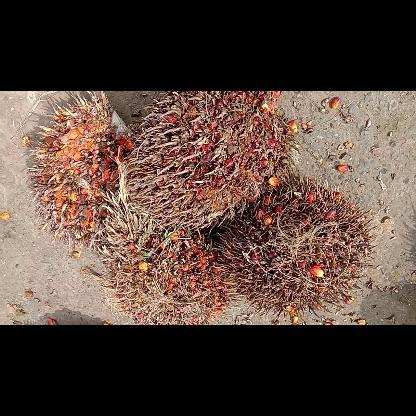Terlalu masak: (126, 90, 296, 228), (216, 178, 376, 314), (26, 90, 136, 248), (100, 191, 230, 324)
